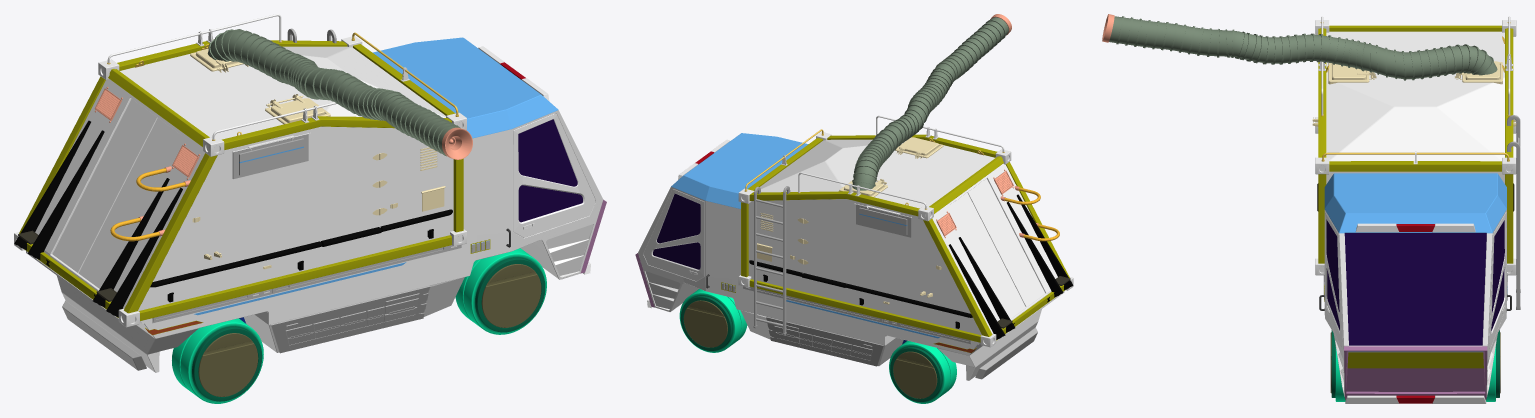
Rendered from SM_GarbageTruck_02.FBX.
3 views of the same model, side by side, from view 1: azimuth 30°, elevation 25°; view 2: azimuth 150°, elevation 25°; view 3: azimuth 270°, elevation 25° (orthographic). The views are drawn at different scales.
Visible parts, largest first — view 1: SM_GarbageTruck_02; view 2: SM_GarbageTruck_02; view 3: SM_GarbageTruck_02.
Boxes of the visible parts, <box> form: SM_GarbageTruck_02: <box>14,14,606,403</box>; SM_GarbageTruck_02: <box>635,14,1073,403</box>; SM_GarbageTruck_02: <box>1102,14,1520,403</box>.
Size of the model in its own units: 698 by 561 by 451.
